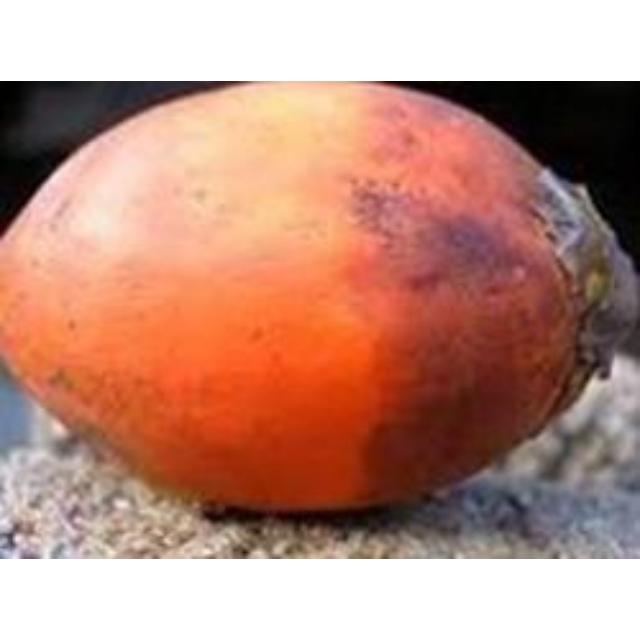good: (0, 81, 637, 524)
